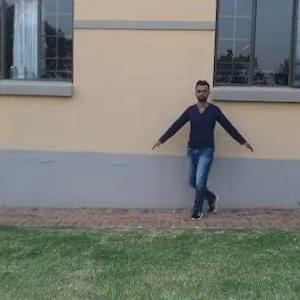land: (158, 81, 253, 226)
